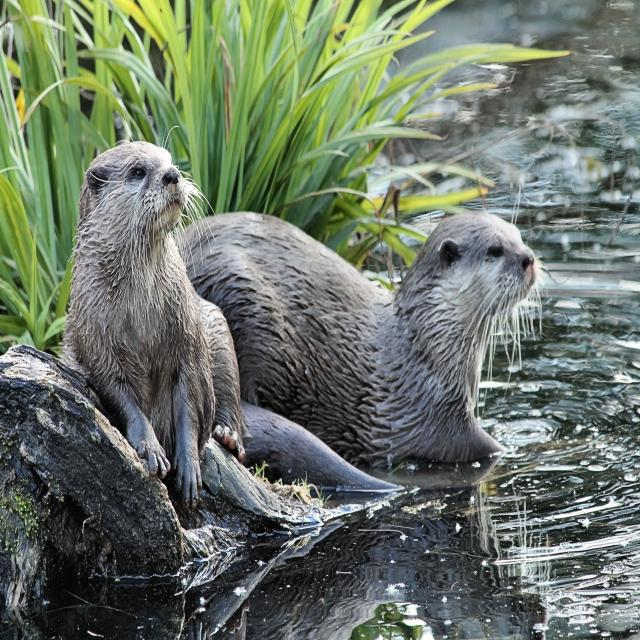otter: (180, 217, 537, 463), (67, 144, 246, 499)
